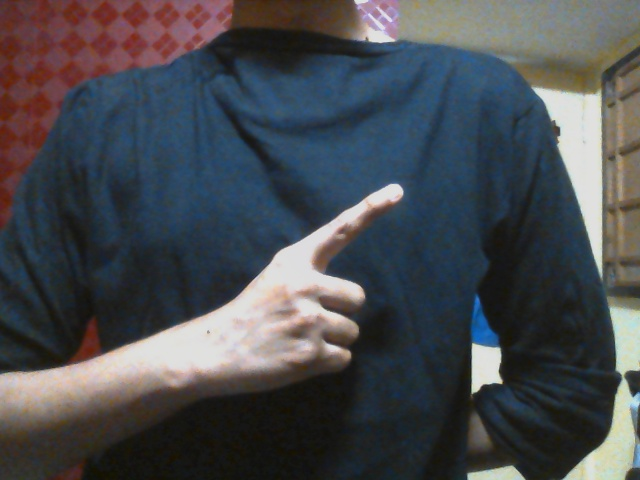I: (228, 183, 404, 397)
